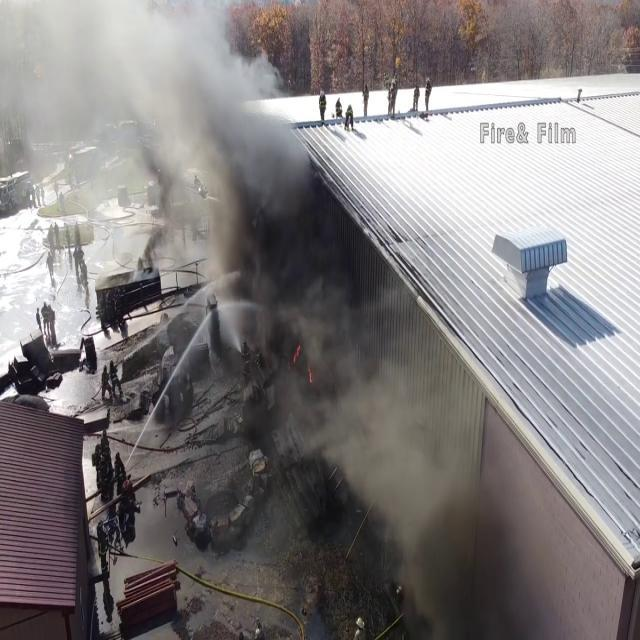Smoke: (0, 0, 320, 302), (274, 270, 476, 566)
